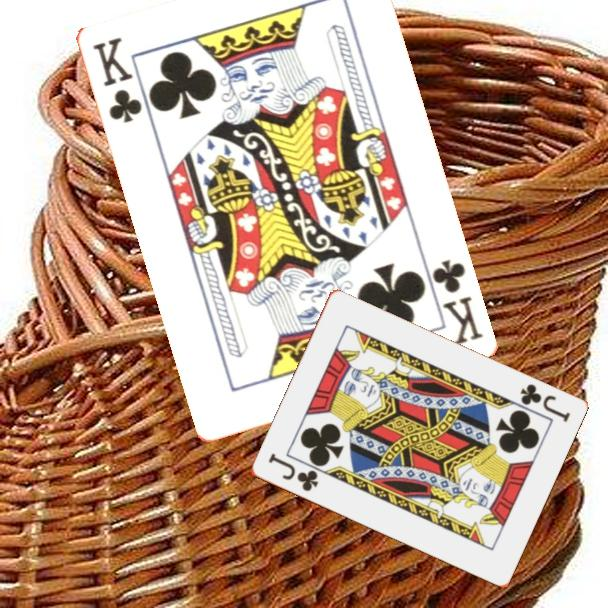c11: (264, 450, 321, 495), (516, 380, 573, 425)
c13: (428, 255, 486, 348), (89, 33, 145, 126)
